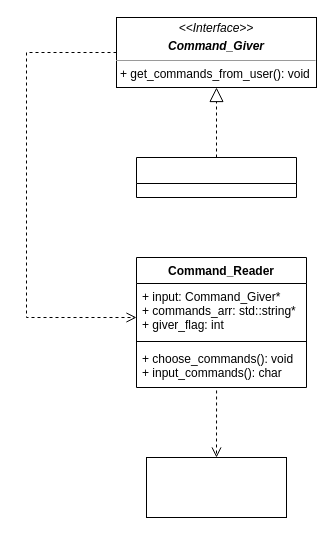
This 334x535 diagram has some shape labels left out. Here are the shapes that lost their labels. From the top down, the centre of each, then its label:
the point at 216,177: Console_Command_Giver
the point at 216,487: Controller
